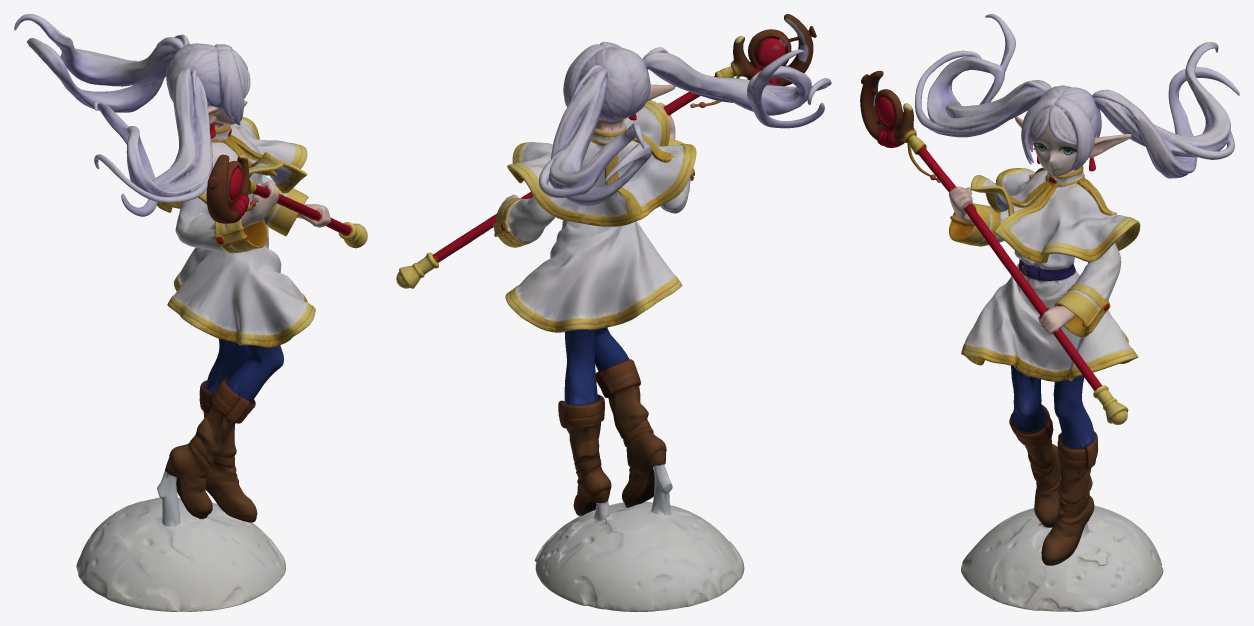
Rendered from aiprintgen_Anime Elf Mage with Staff Figurine-preview.glb.
3 views of the same model, side by side, from view 1: azimuth 30°, elevation 25°; view 2: azimuth 150°, elevation 25°; view 3: azimuth 270°, elevation 25° (orthographic). The views are drawn at different scales.
Parts seen in each view (by area): view 1: aiprintgen_node_ec031822-ac6b-477f-a15d-850226a937ab; view 2: aiprintgen_node_ec031822-ac6b-477f-a15d-850226a937ab; view 3: aiprintgen_node_ec031822-ac6b-477f-a15d-850226a937ab.
Boxes of the visible parts, x1,y1,x2,y2 form: aiprintgen_node_ec031822-ac6b-477f-a15d-850226a937ab: (14,14,367,611); aiprintgen_node_ec031822-ac6b-477f-a15d-850226a937ab: (396,14,831,611); aiprintgen_node_ec031822-ac6b-477f-a15d-850226a937ab: (860,14,1239,611).
Bounding box in the file's own units: 0.6887 × 1 × 0.6899.
Materials: 1 (1 with a texture image).
